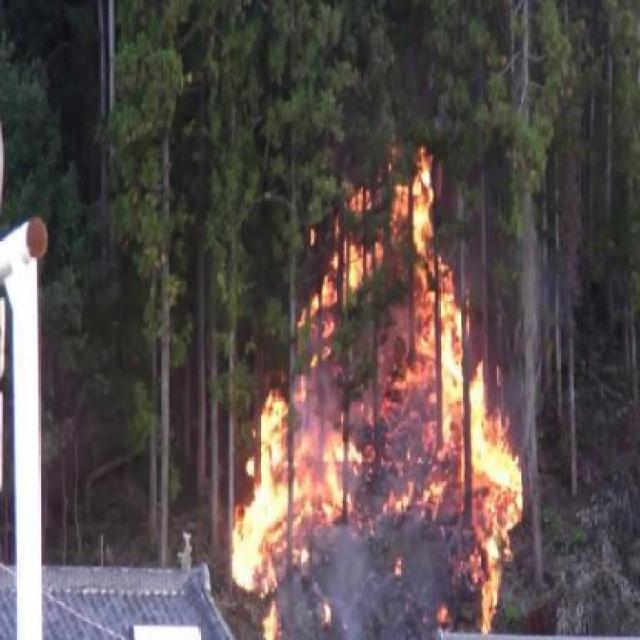Fire: (234, 150, 508, 591)
